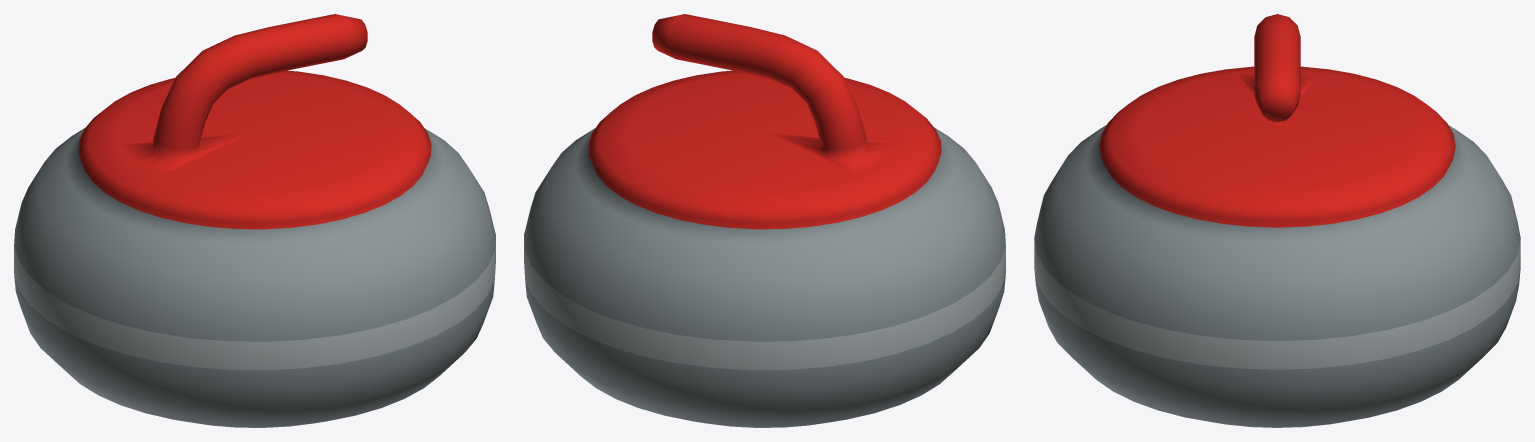
File: NEW_RECOVERY_098_LOD1.fbx
3 views of the same model, side by side, from view 1: azimuth 30°, elevation 25°; view 2: azimuth 150°, elevation 25°; view 3: azimuth 270°, elevation 25° (orthographic).
Parts seen in each view (by area): view 1: Curling stone | fused stone and raised gooseneck handle; view 2: Curling stone | fused stone and raised gooseneck handle; view 3: Curling stone | fused stone and raised gooseneck handle.
Part boxes in pixels (left/top/right/bottom): Curling stone | fused stone and raised gooseneck handle: left=14, top=14, right=495, bottom=427; Curling stone | fused stone and raised gooseneck handle: left=524, top=14, right=1005, bottom=427; Curling stone | fused stone and raised gooseneck handle: left=1034, top=14, right=1520, bottom=427.
Size of the model in its own units: 29.2 by 29.2 by 22.1.
